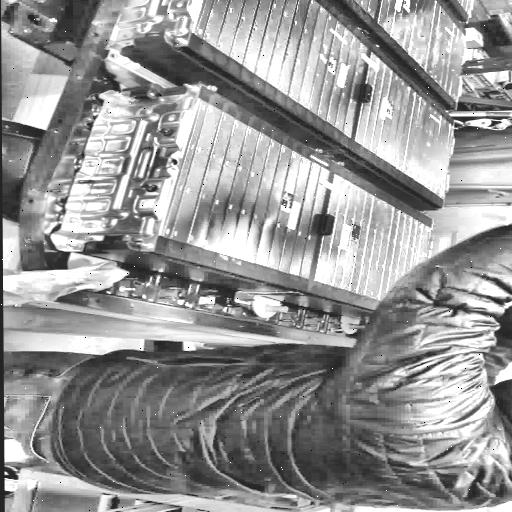battery_module: (159, 98, 331, 279), (190, 0, 368, 139), (315, 175, 429, 312), (352, 51, 453, 200), (376, 0, 464, 103)
